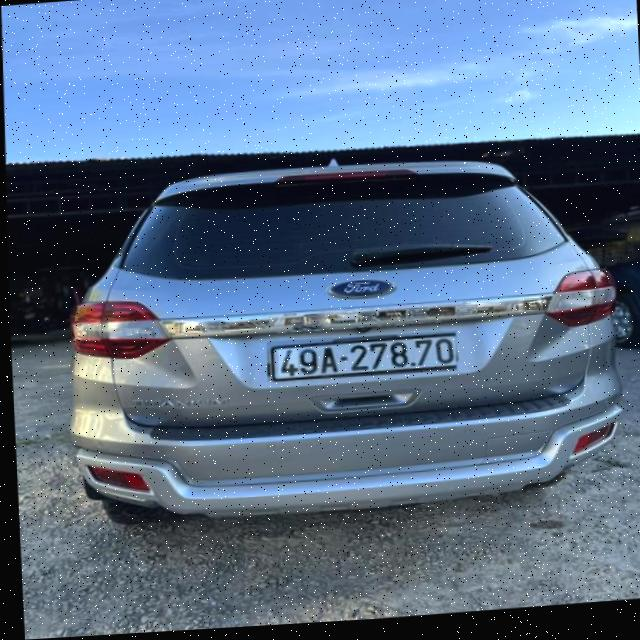car: (54, 89, 640, 542)
plate: (258, 318, 468, 393)
